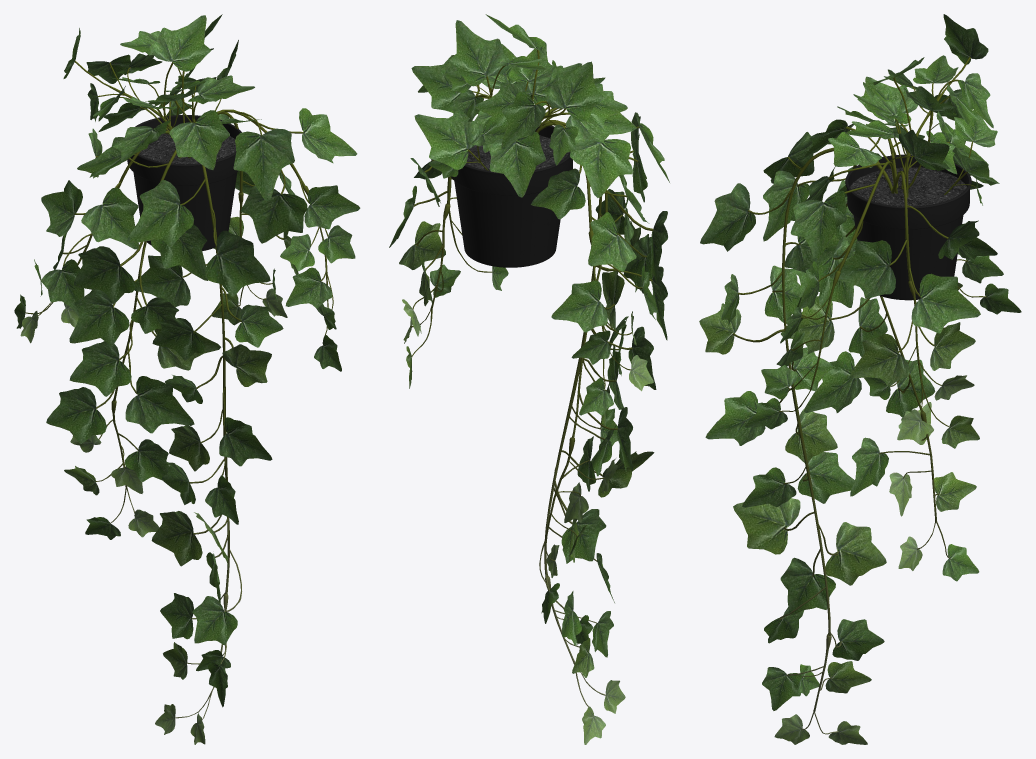
File: 20615229-mini.glb
3 views of the same model, side by side, from view 1: azimuth 30°, elevation 25°; view 2: azimuth 150°, elevation 25°; view 3: azimuth 270°, elevation 25° (orthographic). The views are drawn at different scales.
Parts seen in each view (by area): view 1: dsa.002, dsa.003, dsa.001, dsa; view 2: dsa.002, dsa.001, dsa.003, dsa; view 3: dsa.002, dsa.003, dsa.001, dsa.
Boxes of the visible parts, box(x1,y1,x2,y2) form: dsa.002: box(14, 14, 360, 744); dsa.003: box(25, 60, 333, 719); dsa.001: box(127, 115, 241, 250); dsa: box(139, 128, 235, 164); dsa.002: box(389, 14, 669, 744); dsa.001: box(450, 124, 572, 267); dsa.003: box(410, 49, 653, 706); dsa: box(466, 135, 569, 170); dsa.002: box(699, 14, 1021, 744); dsa.003: box(733, 57, 987, 734); dsa.001: box(845, 154, 971, 300); dsa: box(850, 167, 966, 206).
Size of the model in its own units: 0.3156 by 0.7491 by 0.3058.
4 materials, 4 textured.
